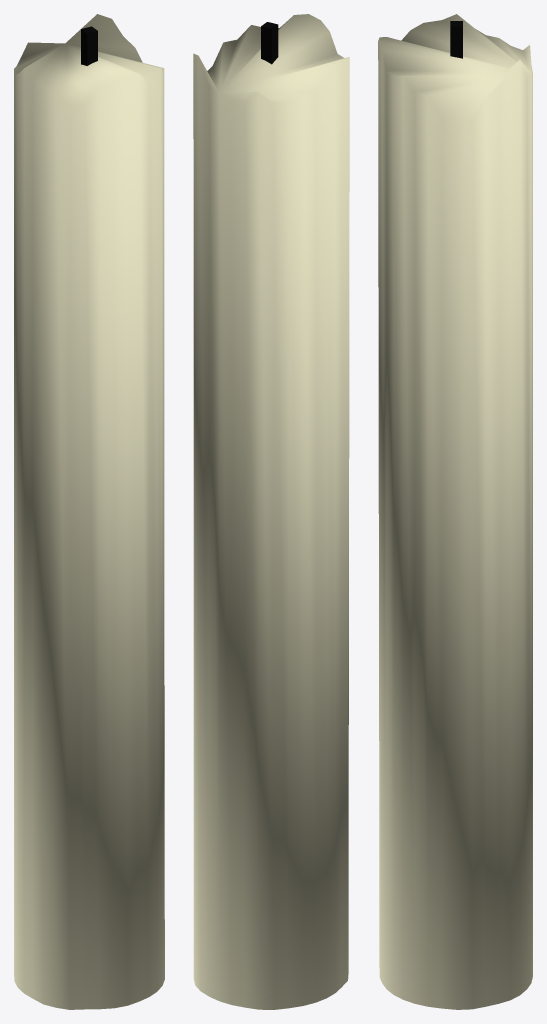
The model's file is candle_m2.fbx.
3 renders of one model, left to right at view 1: azimuth 30°, elevation 25°; view 2: azimuth 150°, elevation 25°; view 3: azimuth 270°, elevation 25°, orthographic.
Visible parts, largest first — view 1: Candle; view 2: Candle; view 3: Candle.
Part boxes in pixels (left/top/right/bottom): Candle: left=14, top=14, right=164, bottom=1009; Candle: left=193, top=14, right=349, bottom=1009; Candle: left=378, top=14, right=532, bottom=1009.
Bounding box in the file's own units: 0.1221 × 0.1215 × 0.83.
